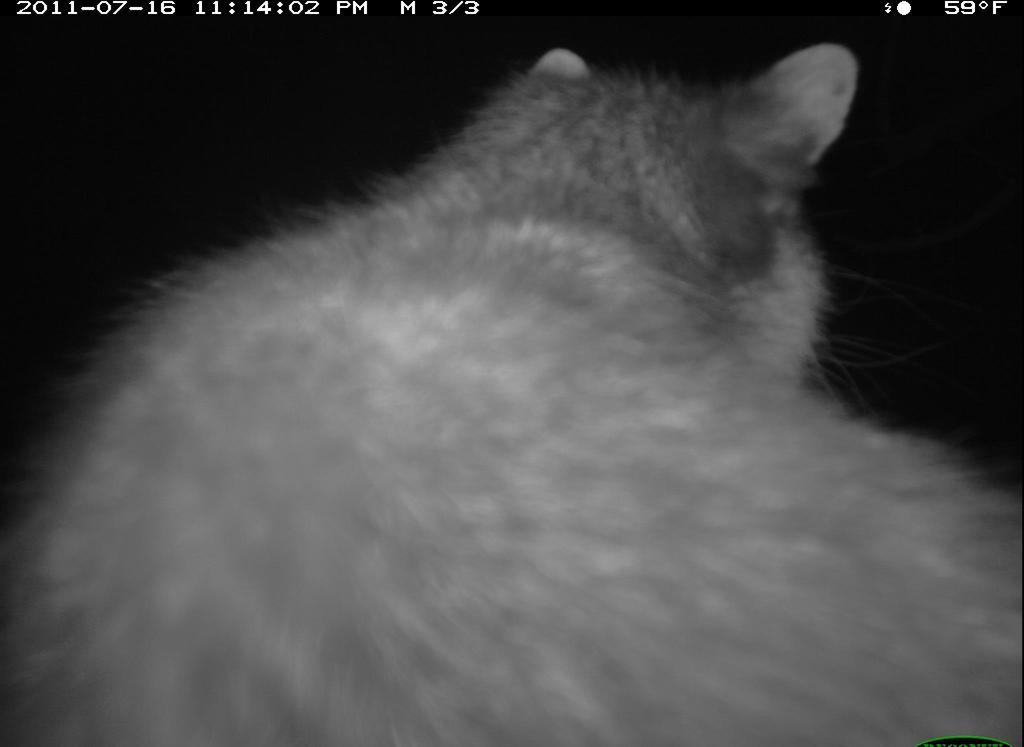raccoon: (11, 31, 1022, 747)
